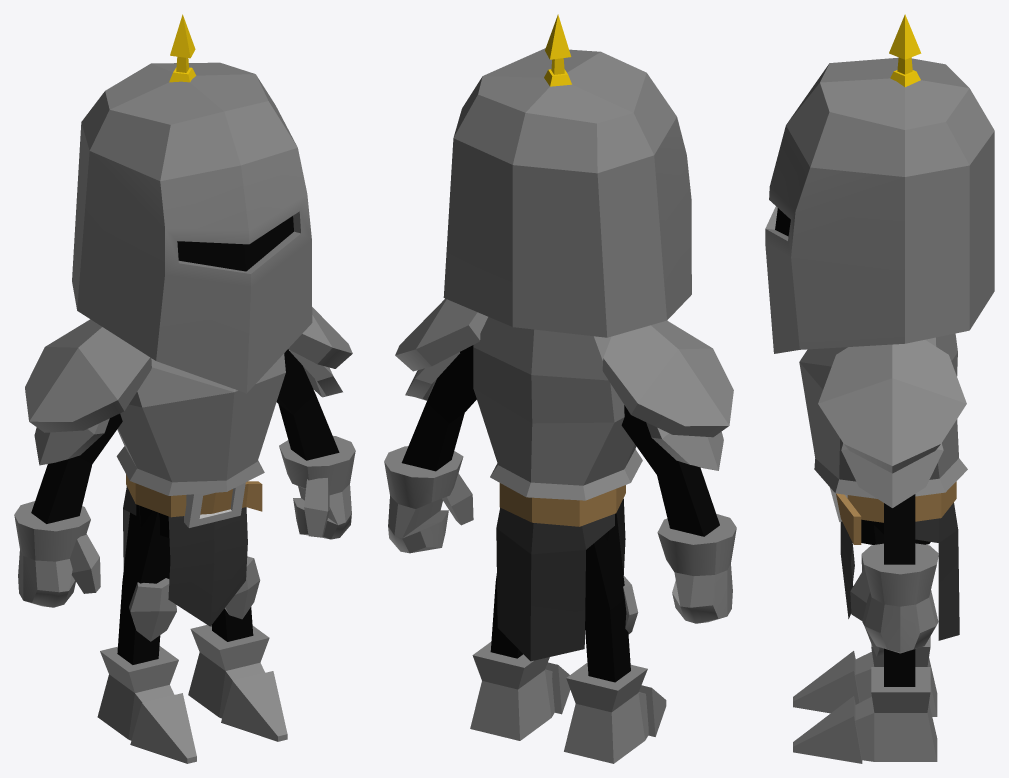
The model's file is army_soldier_66.glb.
3 renders of one model, left to right at view 1: azimuth 30°, elevation 25°; view 2: azimuth 150°, elevation 25°; view 3: azimuth 270°, elevation 25°, orthographic. The views are drawn at different scales.
Visible parts, largest first — view 1: Soldier_66; view 2: Soldier_66; view 3: Soldier_66.
Part boxes in pixels (x1,y1,x2,y2): Soldier_66: (14, 14, 355, 763); Soldier_66: (384, 14, 736, 763); Soldier_66: (765, 14, 994, 763).
Size of the model in its own units: 0.9251 by 1.85 by 0.5406.
Materials: 7 (1 with a texture image).
